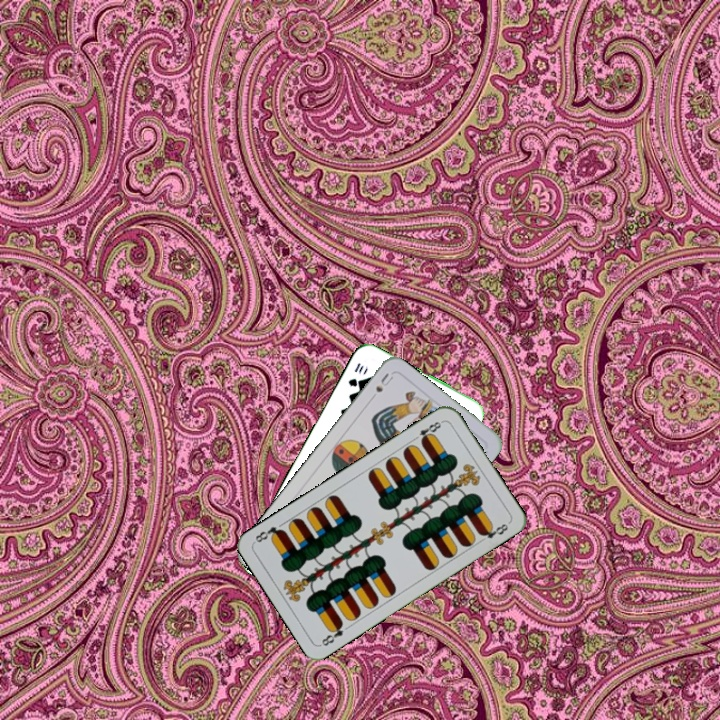E8: (409, 417, 446, 446), (317, 618, 346, 649)
G10: (344, 359, 366, 390)
SU: (371, 369, 396, 395)
